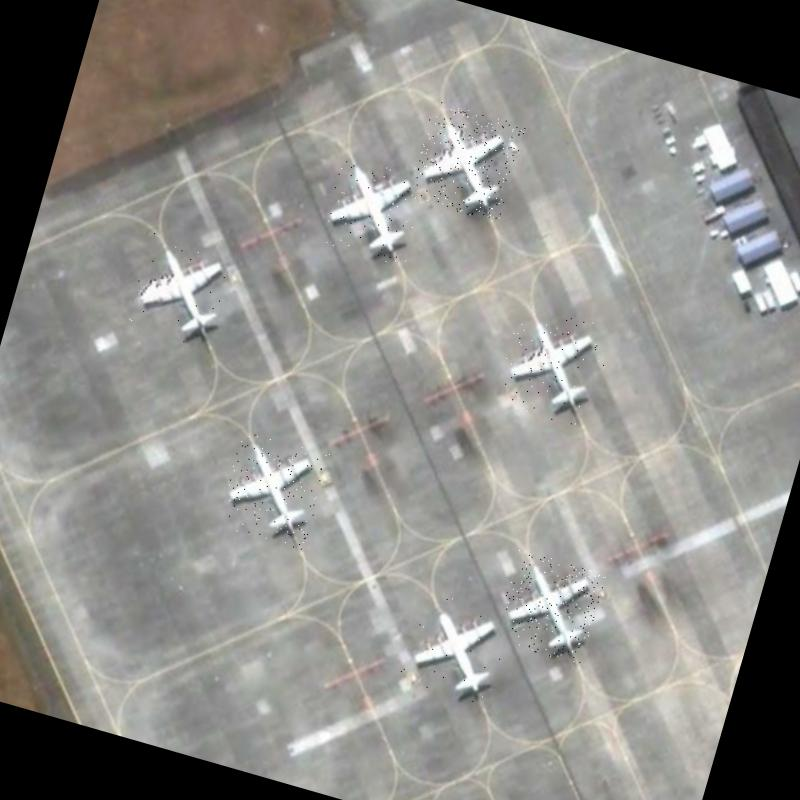A9: (493, 302, 614, 430), (120, 228, 240, 353), (407, 100, 526, 223), (397, 587, 515, 708), (216, 429, 330, 550), (315, 151, 430, 267), (492, 548, 606, 664)
